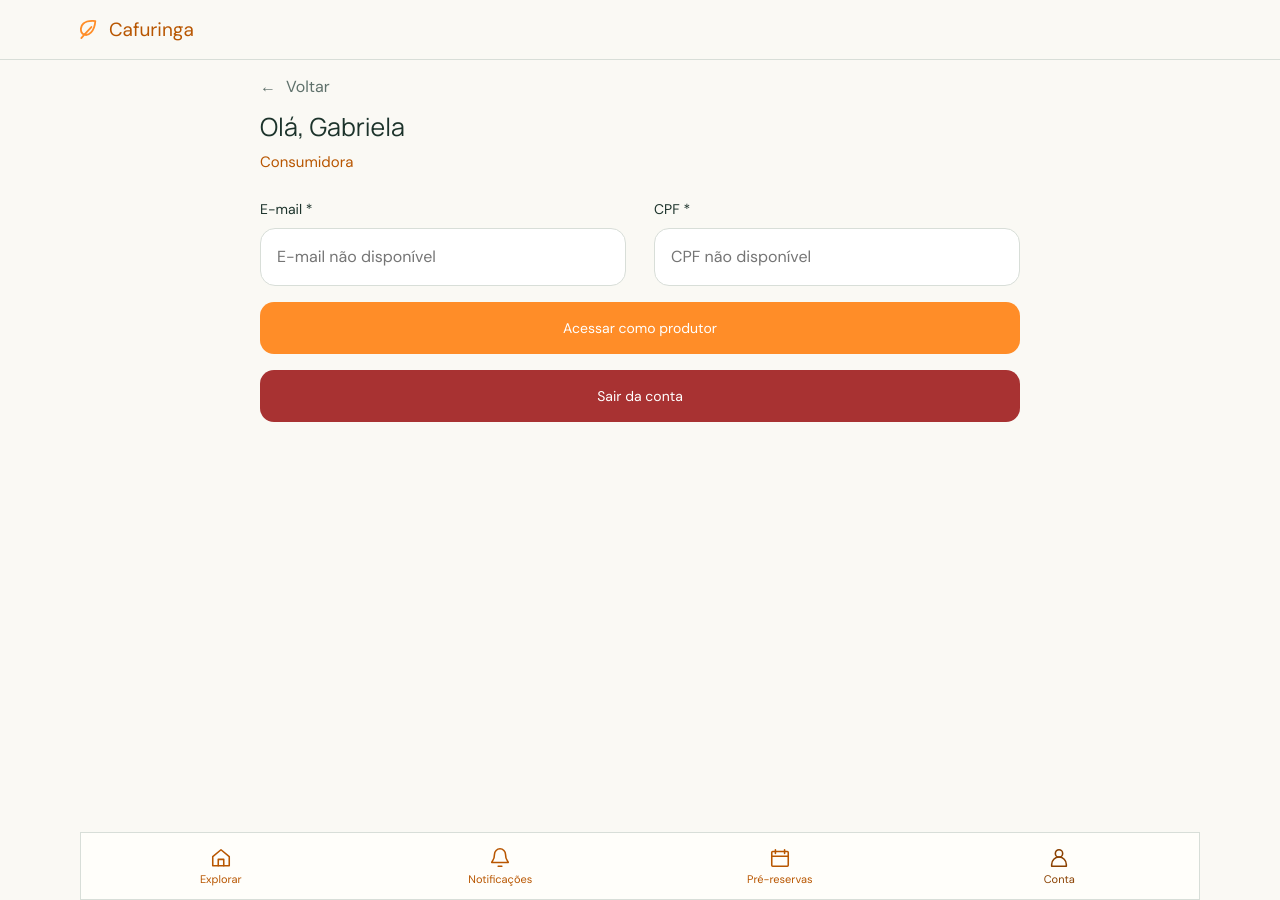
Test case: HU09 — fluxo de autenticação no app › ao sair, volta à seleção de perfil
Step 1. Click the button "Sair da conta" → point(640, 396), box [260,370,1020,422]
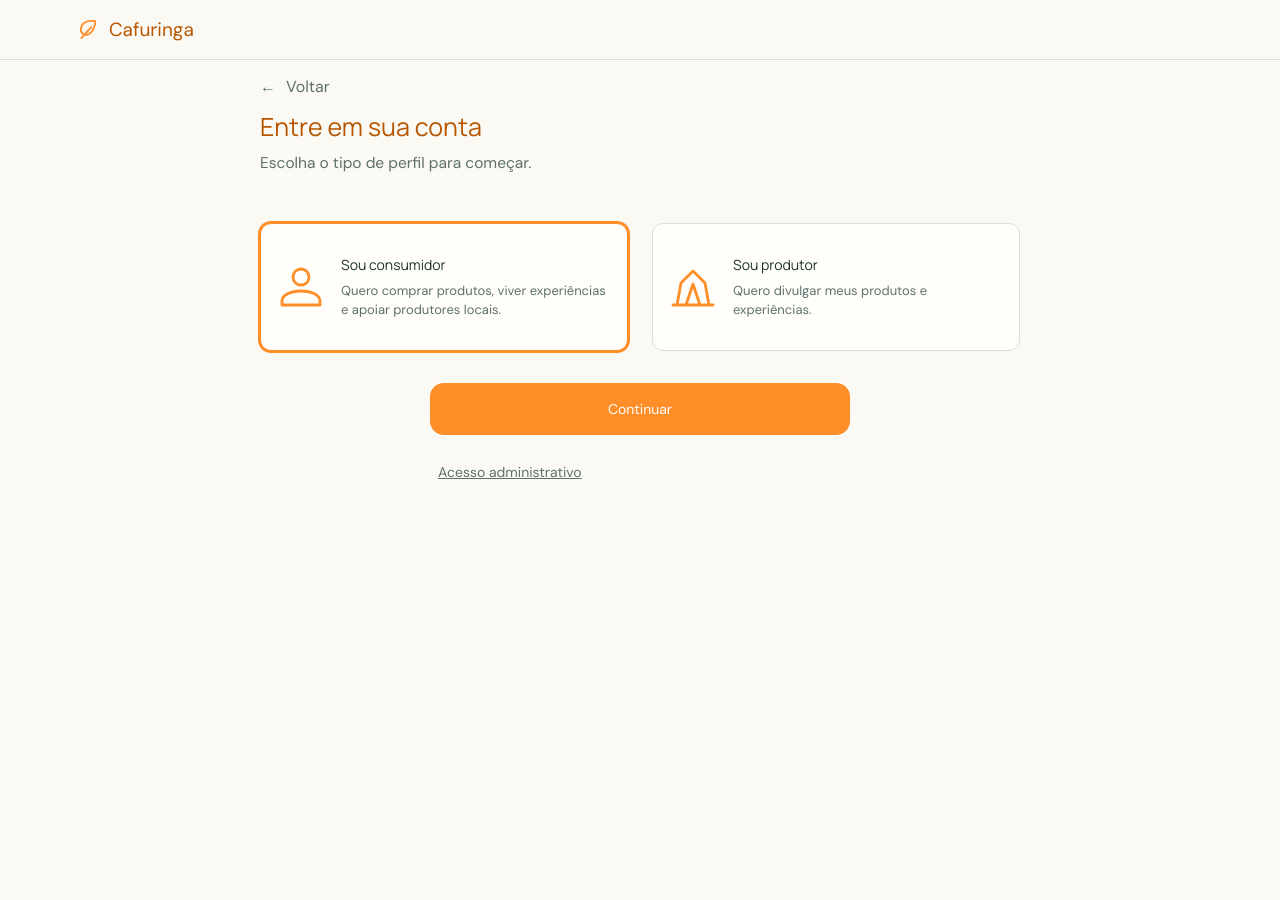
Expected: the heading "Entre em sua conta" is shown, [260,109,482,144]
